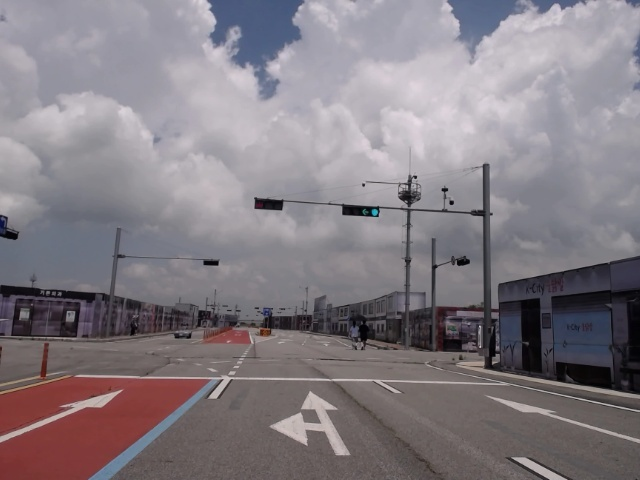all_green_4: (342, 203, 381, 215)
